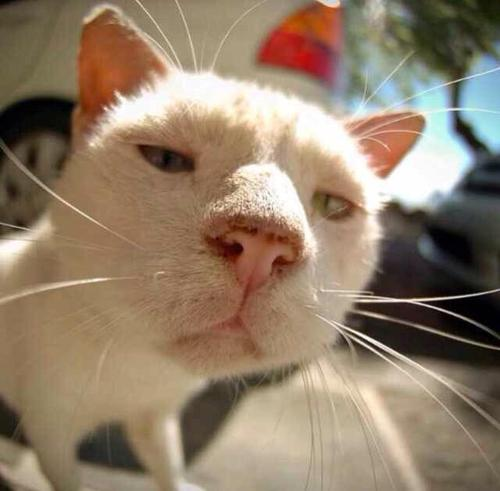cat: (55, 31, 426, 355)
